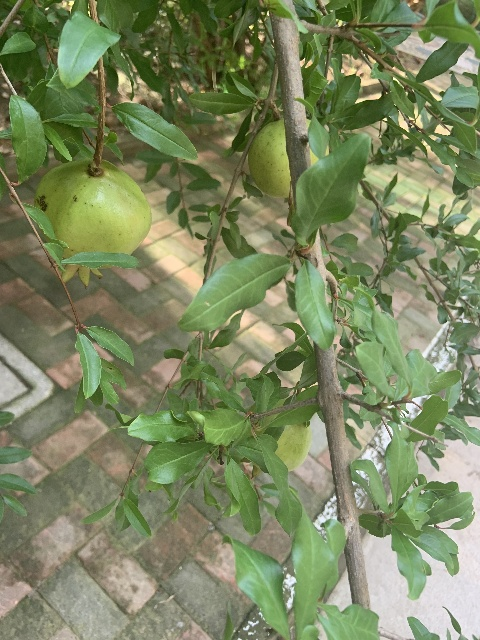mid-growth: (33, 159, 151, 290), (247, 119, 328, 203)
